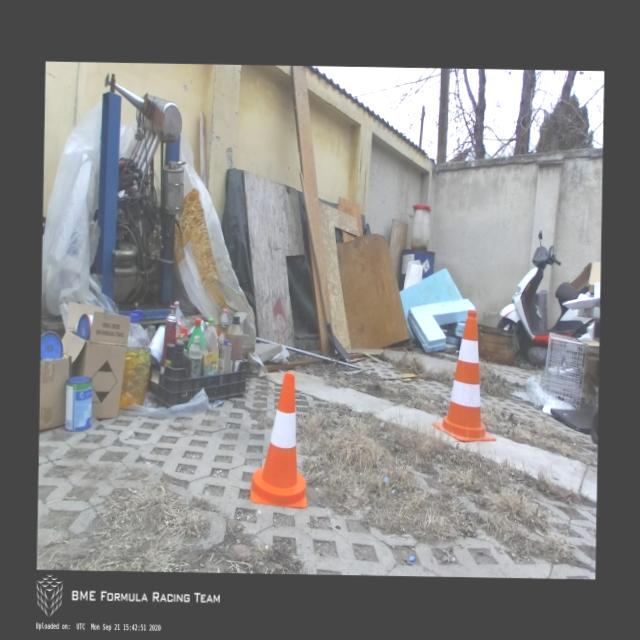large_orange_cone: (431, 309, 498, 442)
orange_cone: (250, 372, 309, 508)
